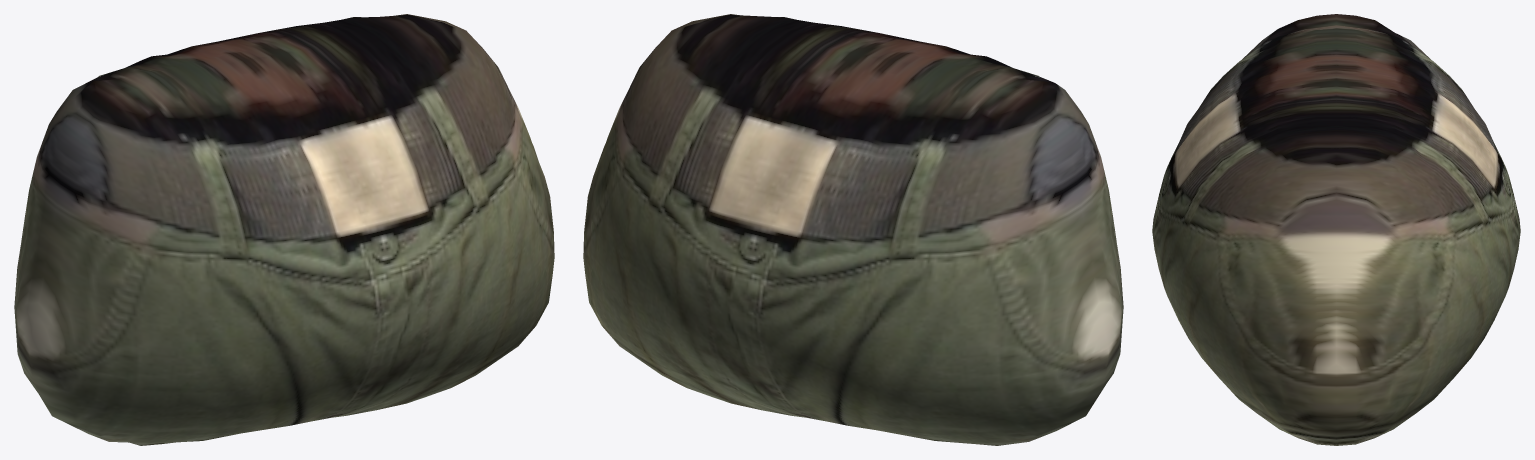
Rendered from WAIST.obj.
3 views of the same model, side by side, from view 1: azimuth 30°, elevation 25°; view 2: azimuth 150°, elevation 25°; view 3: azimuth 270°, elevation 25° (orthographic). The views are drawn at different scales.
Bounding box in the file's own units: 0.8383 × 0.5684 × 0.6308.
